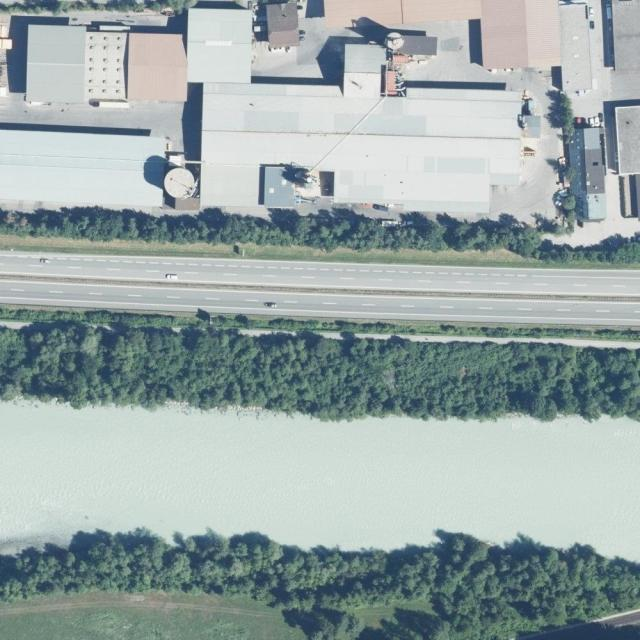building: (0, 9, 200, 211), (188, 8, 251, 83), (164, 167, 198, 198)
greenland: (0, 307, 210, 329), (0, 1, 196, 15), (549, 185, 586, 234), (545, 90, 574, 141), (526, 210, 566, 240), (594, 328, 640, 341)
